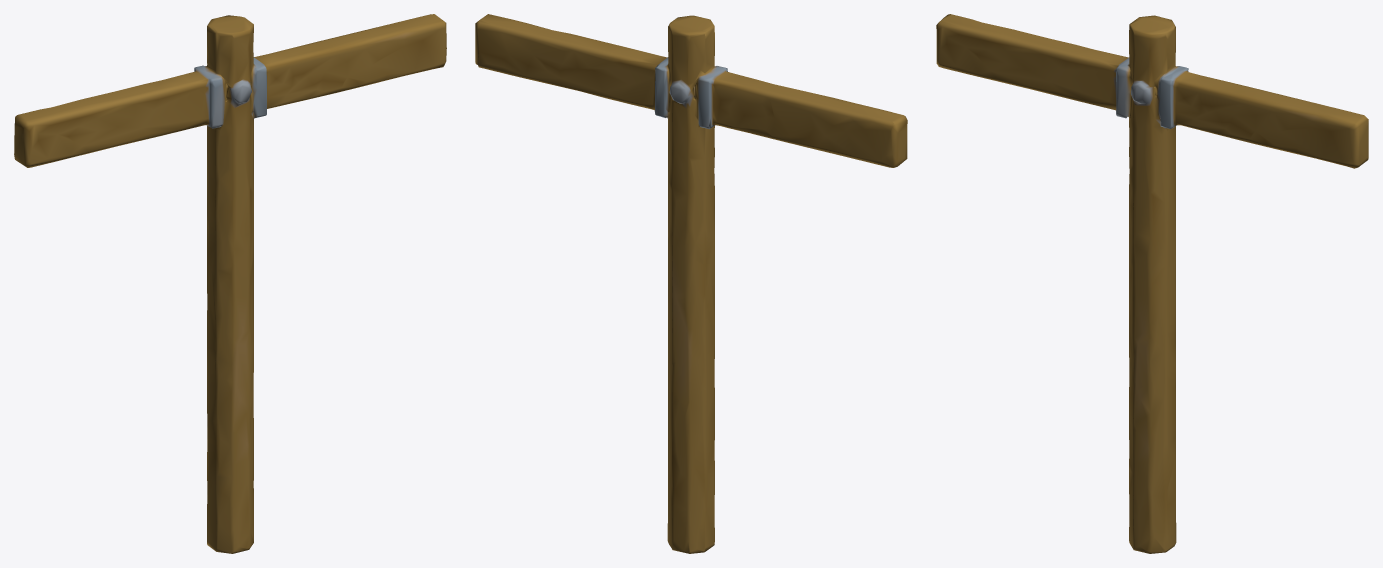
Rendered from gen3d-hitching-post-lod0.glb.
3 renders of one model, left to right at view 1: azimuth 30°, elevation 25°; view 2: azimuth 150°, elevation 25°; view 3: azimuth 330°, elevation 25°, orthographic.
Visible parts, largest first — view 1: part_0; view 2: part_0; view 3: part_0.
Boxes of the visible parts, left/top/right/bottom form: part_0: left=14, top=14, right=446, bottom=553; part_0: left=475, top=14, right=907, bottom=553; part_0: left=936, top=14, right=1368, bottom=553.
Size of the model in its own units: 0.8501 by 1 by 0.0962.
